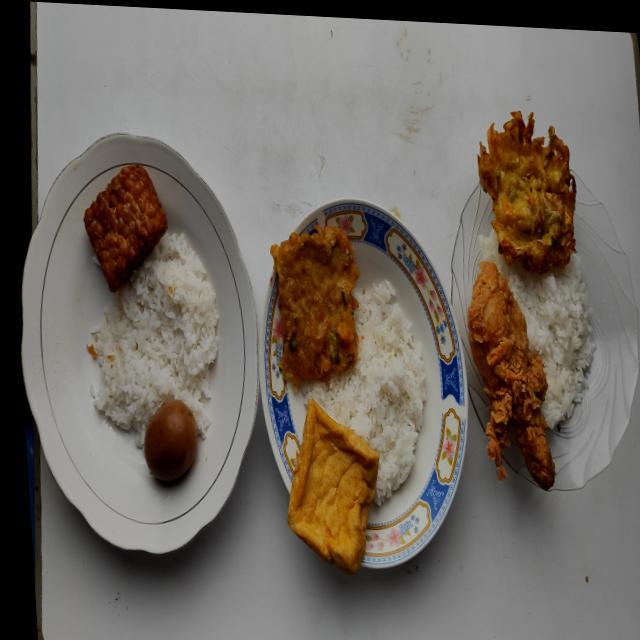nasi_putih: (302, 281, 426, 506), (93, 233, 220, 444), (479, 234, 595, 428)
tahu_goreng: (288, 400, 379, 574)
tempe_goreng: (84, 165, 167, 292)
